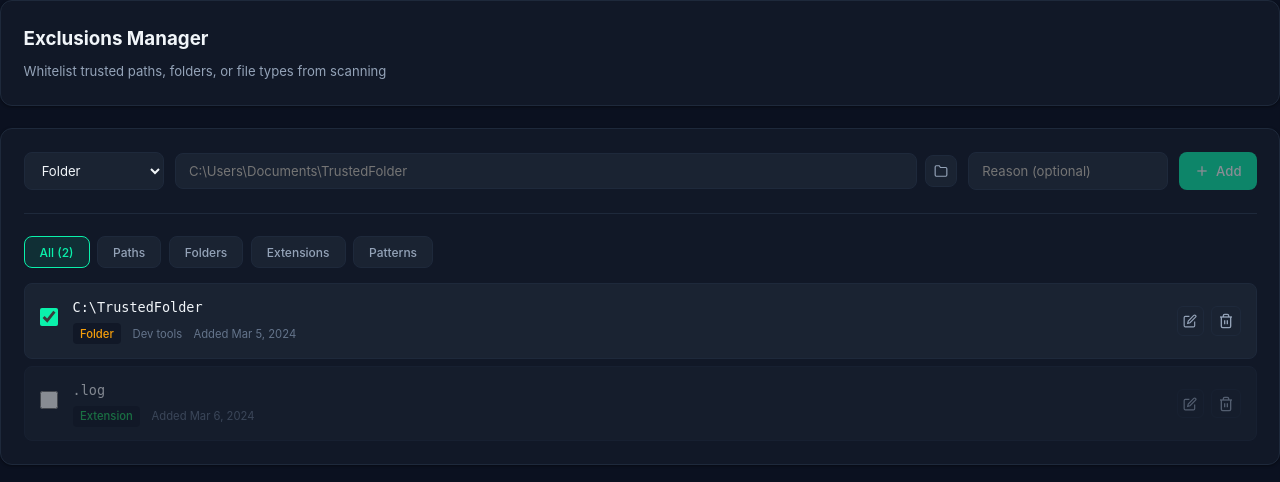
ExclusionsManager › filters exclusions by type
Click the button "Extensions".
click(298, 252)  # box [251, 236, 346, 268]
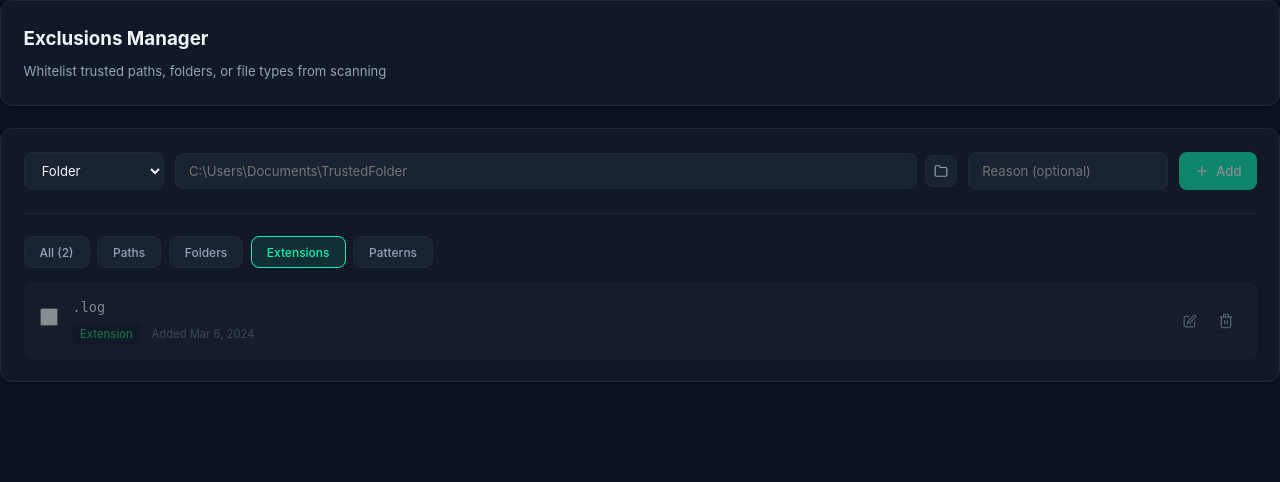
expect the text ".log" is shown: met, box [72, 299, 105, 315]
expect the text "C:\\TrustedFolder" is gone: met
